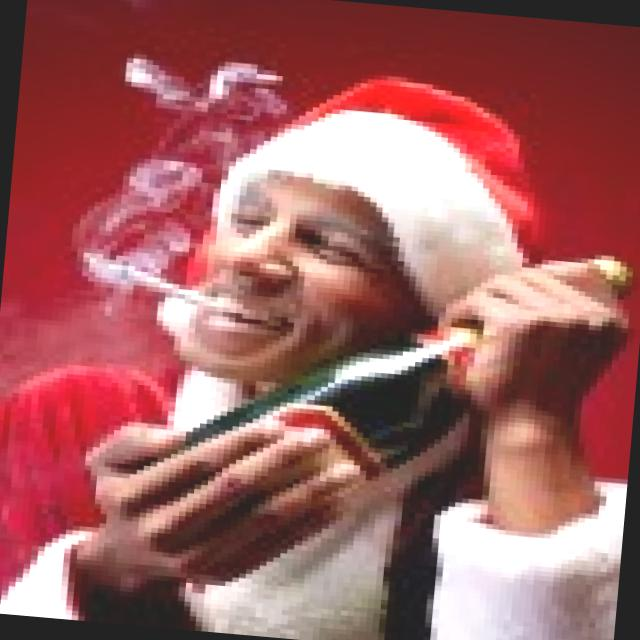cigarette: (107, 260, 221, 320)
